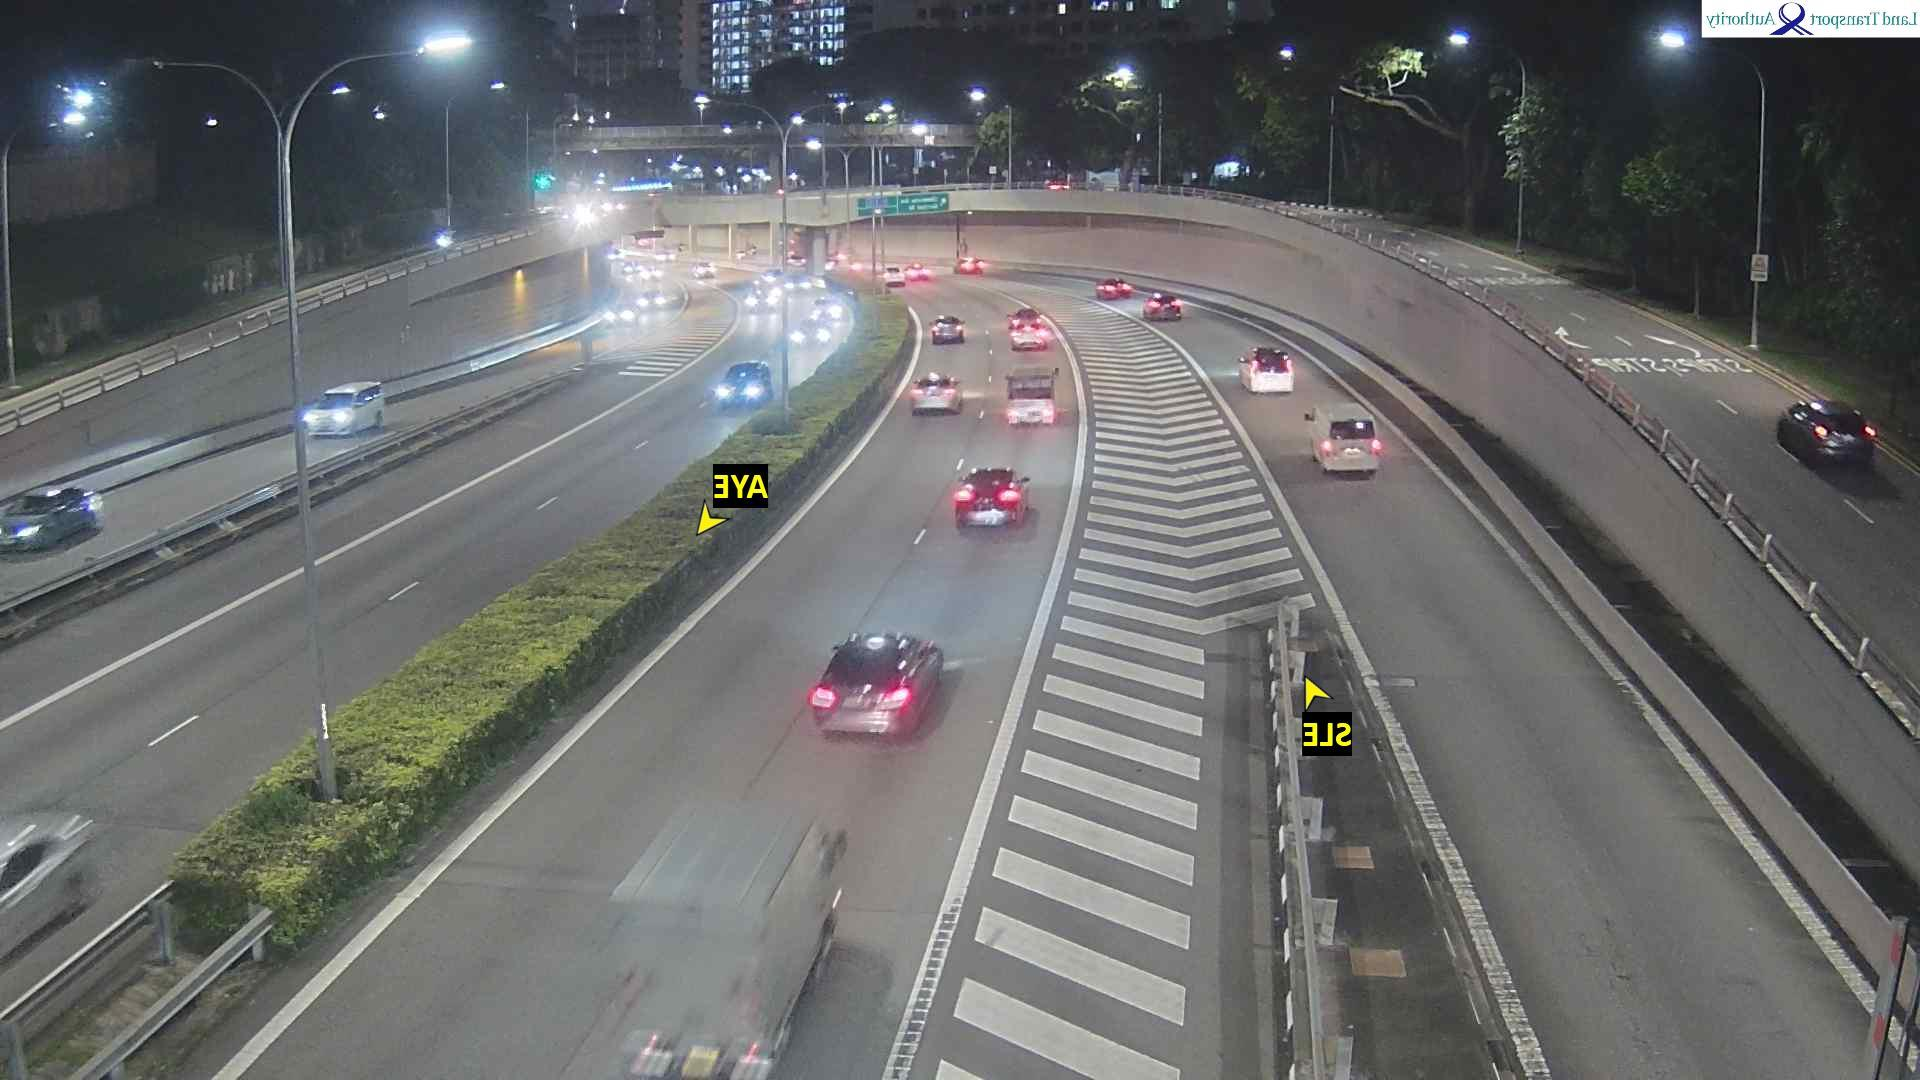incoming: (0, 492, 71, 553), (295, 396, 360, 435), (707, 365, 769, 406), (793, 322, 827, 353), (740, 295, 777, 316), (808, 302, 841, 320), (636, 291, 666, 311), (785, 274, 811, 294), (695, 261, 719, 282)
